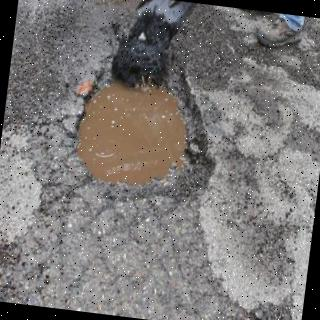pothole: (76, 0, 216, 197)
